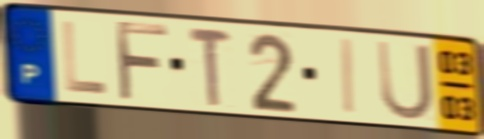2: (246, 28, 300, 116)
F: (112, 18, 172, 104)
I: (341, 36, 359, 118)
L: (60, 18, 111, 97)
T: (186, 24, 235, 109)
U: (373, 37, 436, 123)
